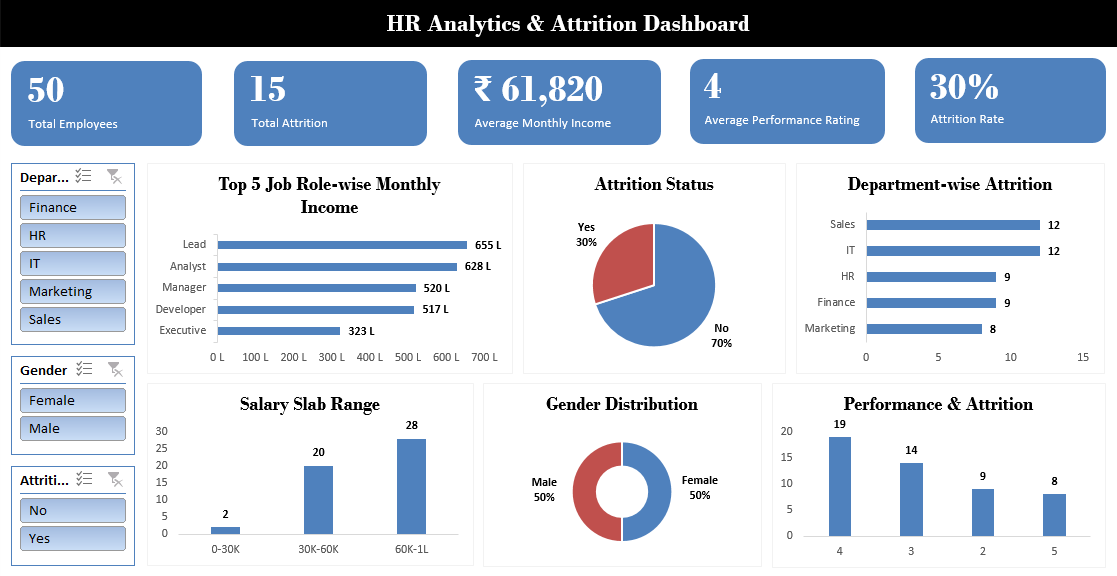

What the dashboard file says about the page in this screenshot:
{"tool":"powerbi","page":{"name":"Page 1","canvas":[1280,720],"ordinal":0},"visuals":[{"type":"slicer","fields":{"Values":["Data_Cleaning.Department"]},"box":[14.8,179.7,158.9,190.1],"z":0},{"type":"slicer","fields":{"Values":["Data_Cleaning.Gender"]},"box":[14.8,386.1,158.9,108.4],"z":1000},{"type":"slicer","fields":{"Values":["Data_Cleaning.Job_Role"]},"box":[14.8,512.3,158.9,190.1],"z":2000},{"type":"cardVisual","fields":{"Data":["Data_Cleaning.Attrition Rate"]},"box":[1043.9,57.9,222.7,106.9],"z":3000},{"type":"cardVisual","fields":{"Data":["Data_Cleaning.Total Attrition Count"]},"box":[271.7,57.9,222.7,106.9],"z":4000},{"type":"cardVisual","fields":{"Data":["Data_Cleaning.Total Employees"]},"box":[14.8,57.9,222.7,106.9],"z":5000},{"type":"cardVisual","fields":{"Data":["Data_Cleaning.Average Monthly Income"]},"box":[787,57.9,222.7,106.9],"z":6000},{"type":"clusteredBarChart","title":"Department-wise Attrition","fields":{"Category":["Data_Cleaning.Department"],"Y":["Data_Cleaning.Total Attrition Count"]},"box":[189.2,179,483.8,265.4],"z":7000},{"type":"clusteredColumnChart","fields":{"Category":["Data_Cleaning.Job_Role"],"Y":["Data_Cleaning.Average Monthly Income"]},"box":[685.7,179,580.3,265.4],"z":8000},{"type":"donutChart","title":"Employee Distribution by Performance Rating","fields":{"Category":["Data_Cleaning.Performance_Rating"],"Y":["CountNonNull(Data_Cleaning.Employee_ID)"]},"box":[887.6,463.5,378.4,238.7],"z":9000},{"type":"clusteredBarChart","title":"Attrition by Salary Slab","fields":{"Category":["Data_Cleaning.Salary Slab"],"Y":["Data_Cleaning.Total Attrition Count"]},"box":[538.4,463.5,336.5,238.7],"z":10000},{"type":"pieChart","title":"Attrition by Gender","fields":{"Category":["Data_Cleaning.Gender"],"Y":["Data_Cleaning.Total Attrition Count"]},"box":[188.6,463.3,340,239.1],"z":11000},{"type":"cardVisual","fields":{"Data":["Data_Cleaning.Active Employees"]},"box":[528.6,57.9,222.7,106.9],"z":12000},{"type":"textbox","box":[0,0,1280,58.4],"z":13000}]}

Visuals, with their boxes on the page's 1280x720 design canvas (x1, y1, x2, y2). These are canvas units, not pixel positions in the 1117x576 screenshot, which may show the page scaled, cropped or inside an application window:
slicer - Data_Cleaning.Department: x1=15, y1=180, x2=174, y2=370
slicer - Data_Cleaning.Gender: x1=15, y1=386, x2=174, y2=494
slicer - Data_Cleaning.Job_Role: x1=15, y1=512, x2=174, y2=702
cardVisual - Data_Cleaning.Attrition Rate: x1=1044, y1=58, x2=1267, y2=165
cardVisual - Data_Cleaning.Total Attrition Count: x1=272, y1=58, x2=494, y2=165
cardVisual - Data_Cleaning.Total Employees: x1=15, y1=58, x2=238, y2=165
cardVisual - Data_Cleaning.Average Monthly Income: x1=787, y1=58, x2=1010, y2=165
"Department-wise Attrition" clusteredBarChart: x1=189, y1=179, x2=673, y2=444
clusteredColumnChart - Data_Cleaning.Job_Role x Data_Cleaning.Average Monthly Income: x1=686, y1=179, x2=1266, y2=444
"Employee Distribution by Performance Rating" donutChart: x1=888, y1=464, x2=1266, y2=702
"Attrition by Salary Slab" clusteredBarChart: x1=538, y1=464, x2=875, y2=702
"Attrition by Gender" pieChart: x1=189, y1=463, x2=529, y2=702
cardVisual - Data_Cleaning.Active Employees: x1=529, y1=58, x2=751, y2=165
textbox: x1=0, y1=0, x2=1280, y2=58
